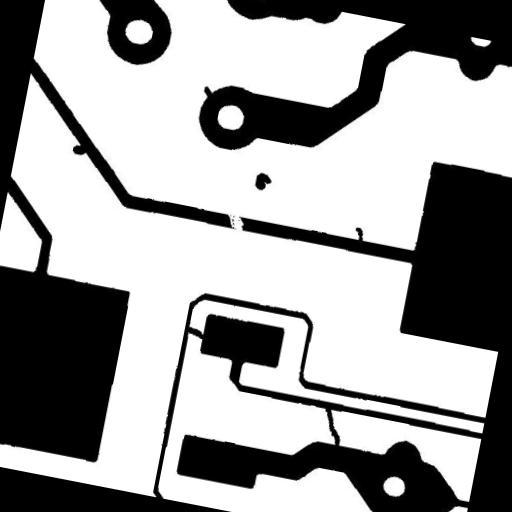copper: (246, 163, 282, 200)
open: (216, 204, 254, 241)
short: (310, 398, 354, 454), (176, 318, 214, 348)
spur: (344, 218, 374, 255), (63, 134, 96, 164), (194, 77, 223, 106)
